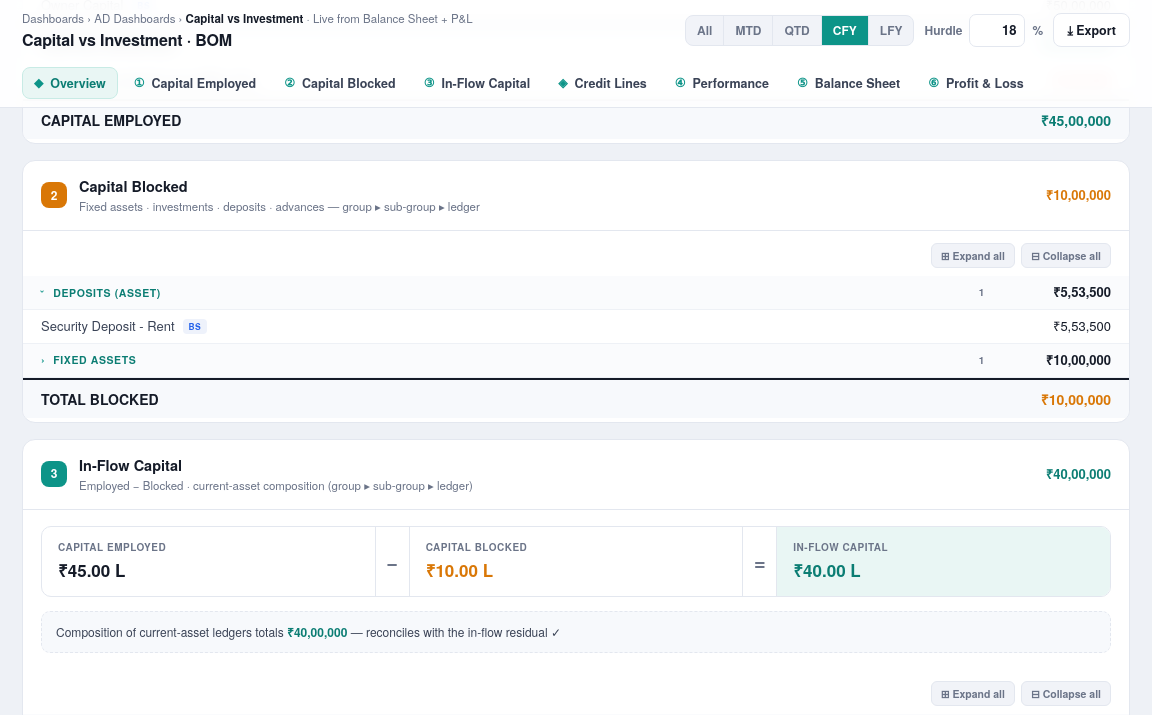
a top-level group collapses/expands on header click (Fixed Assets)
(page scrolled)
Expected: the text "Office Equipment" is not shown
Click the text "Fixed Assets".
click(95, 360)  # box [53,352,136,368]
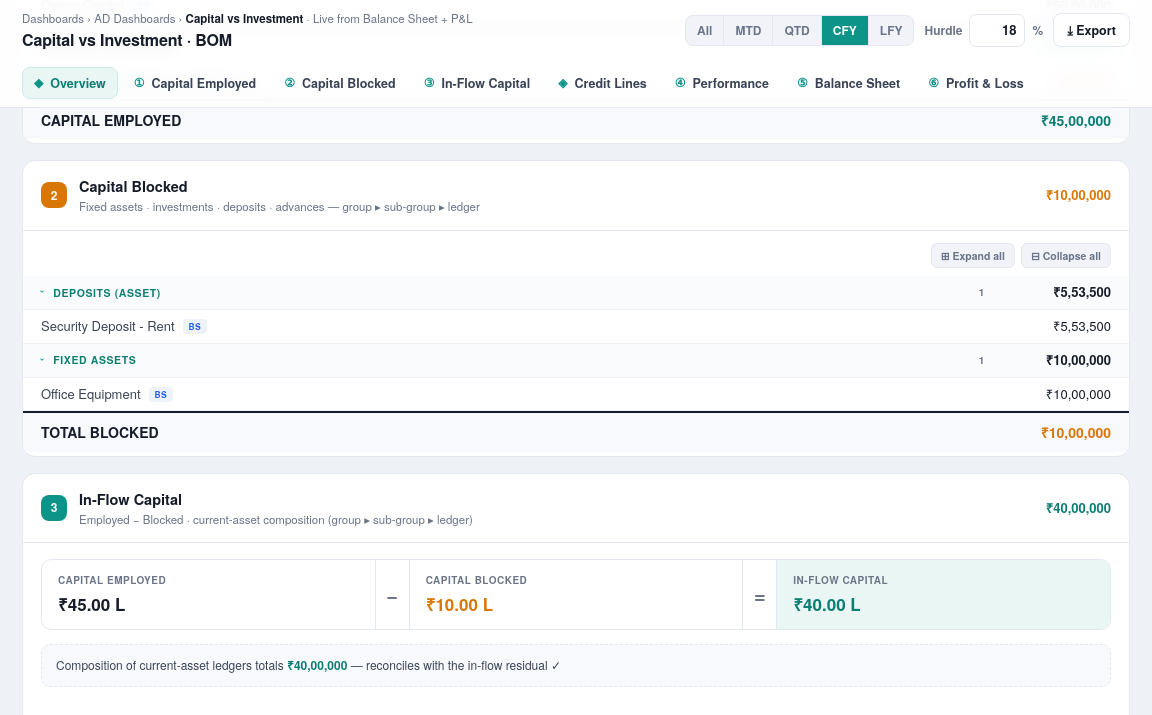
Expected: the text "Office Equipment" is shown, [41,384,140,402]
Click the text "Fixed Assets".
click(95, 360)  # box [53,352,136,368]
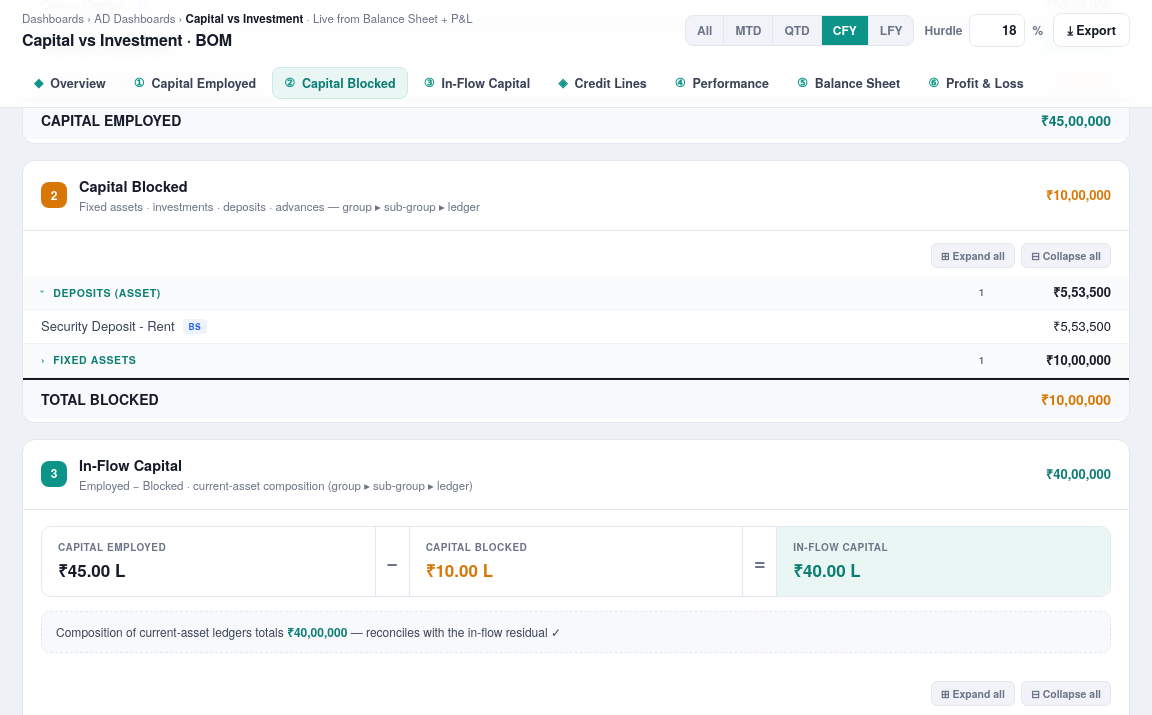
Expected: the text "Office Equipment" is gone
